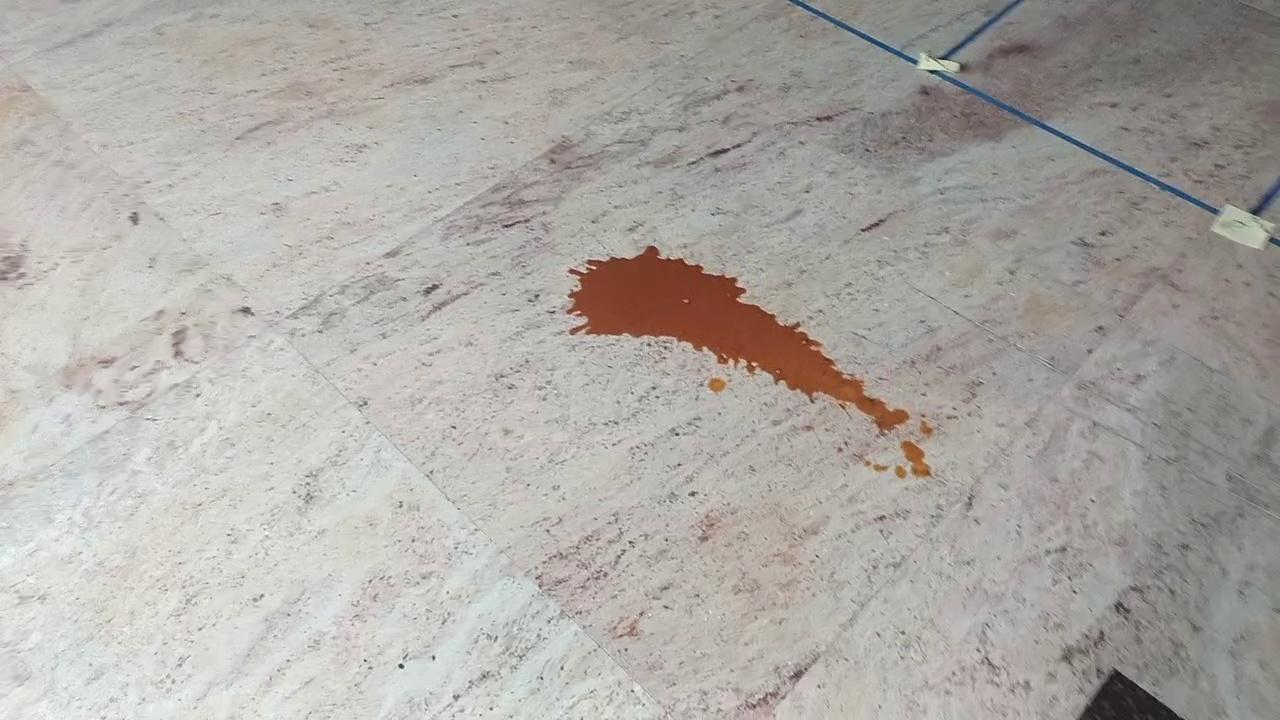dirty_floor: (565, 242, 937, 477)
